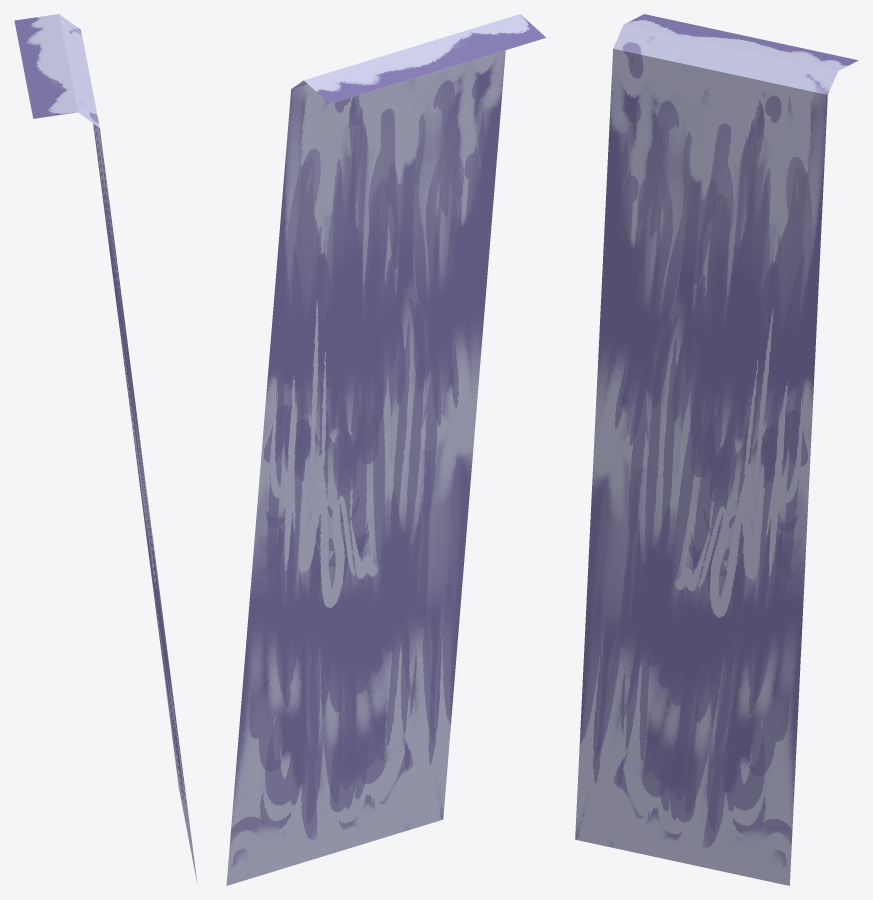
The model's file is waterfall.glb.
3 views of the same model, side by side, from view 1: azimuth 30°, elevation 25°; view 2: azimuth 150°, elevation 25°; view 3: azimuth 270°, elevation 25° (orthographic). The views are drawn at different scales.
Visible parts, largest first — view 1: Plane.002; view 2: Plane.002; view 3: Plane.002.
Part boxes in pixels (x1=…): Plane.002: x1=14, y1=14, x2=197, y2=884; Plane.002: x1=226, y1=14, x2=546, y2=885; Plane.002: x1=575, y1=14, x2=858, y2=885.
Size of what is drawn, in the model's own units: 13.38 by 45.6 by 15.19.
1 material, 1 textured.
